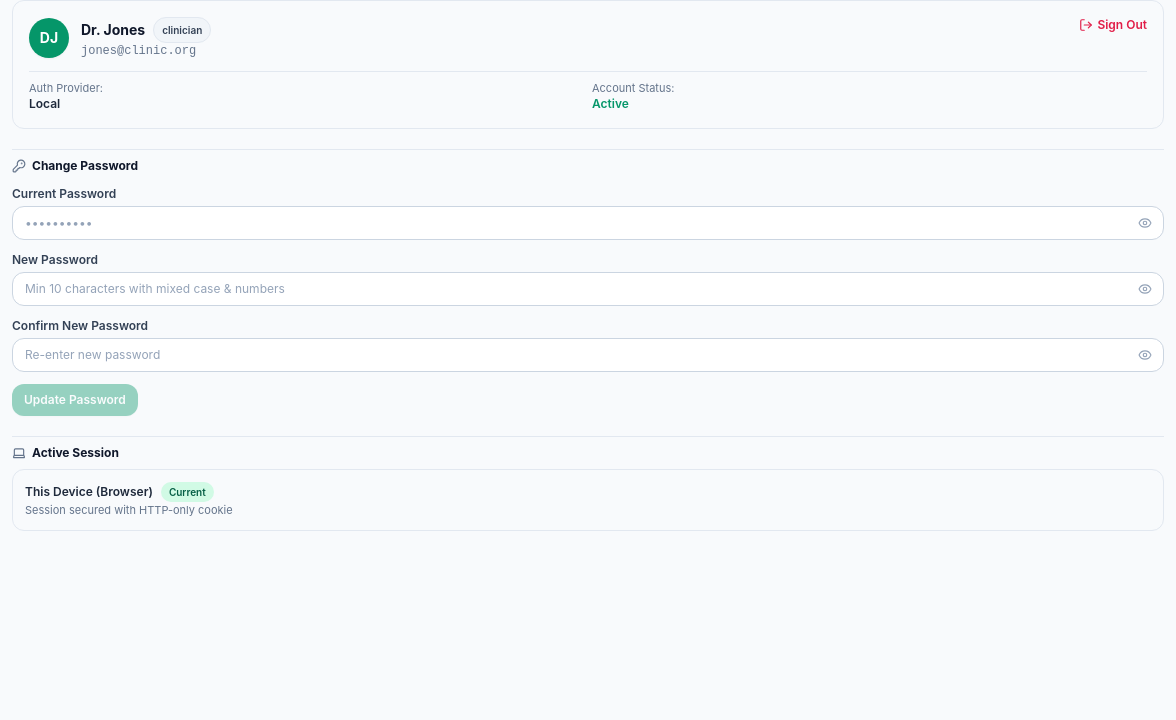
it: SecurityProfilePanel › renders change password form and allows updating password for local auth user
Expected: the text "Dr. Jones" is shown, [81,20,145,40]
Expected: the text with test id "user-role-badge" reads "clinician", [162,24,202,36]
In the password field with test id "current-password-input": (588, 223) [12,206,1164,240], type "OldPass123!"
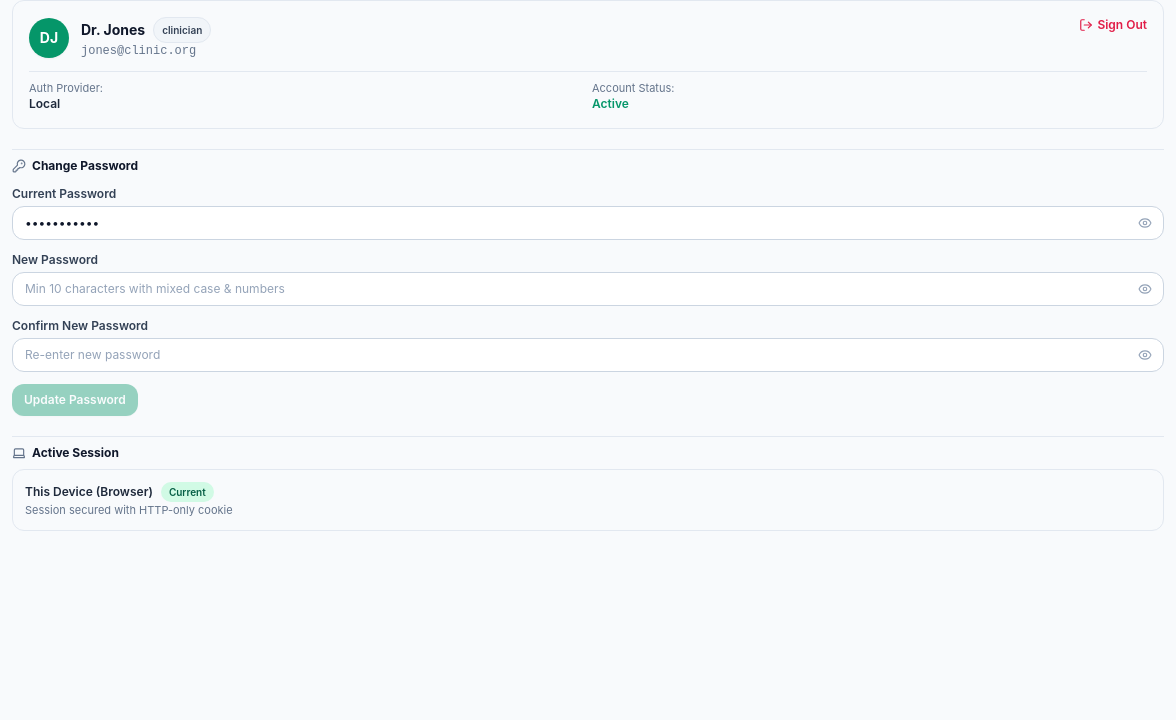
In the password field with test id "new-password-input": (588, 289) [12,272,1164,306], type "NewSuperPass456!"
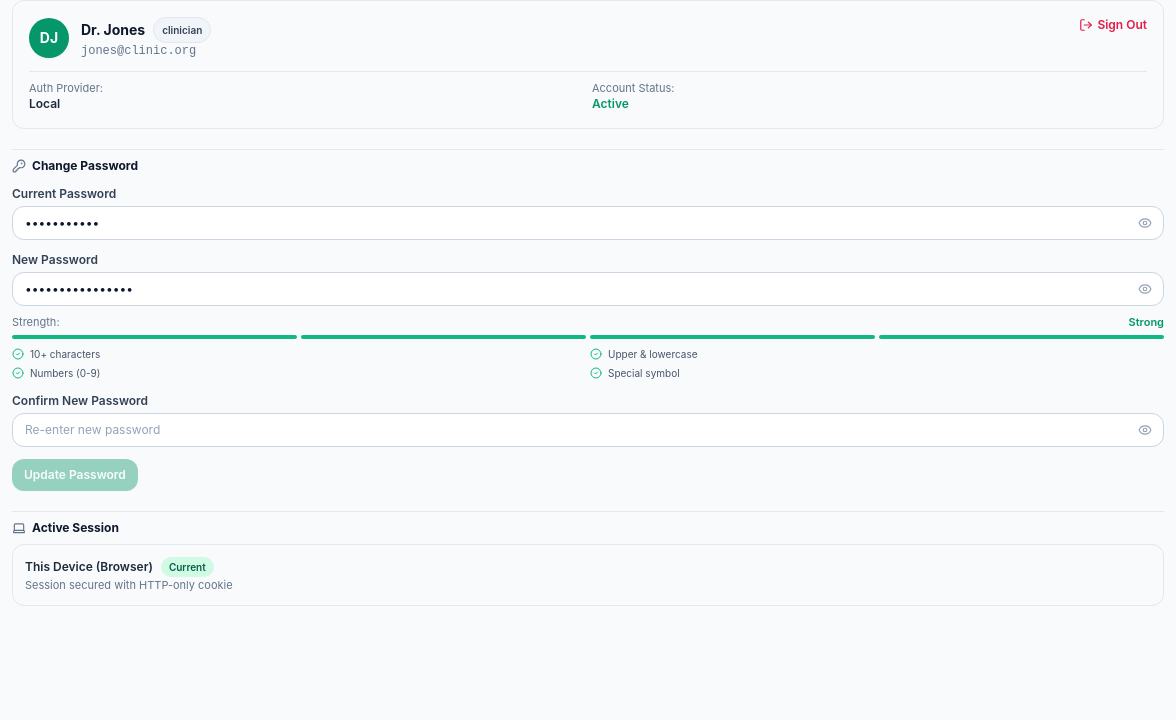
In the password field with test id "confirm-password-input": (588, 430) [12,412,1164,446], type "NewSuperPass456!"
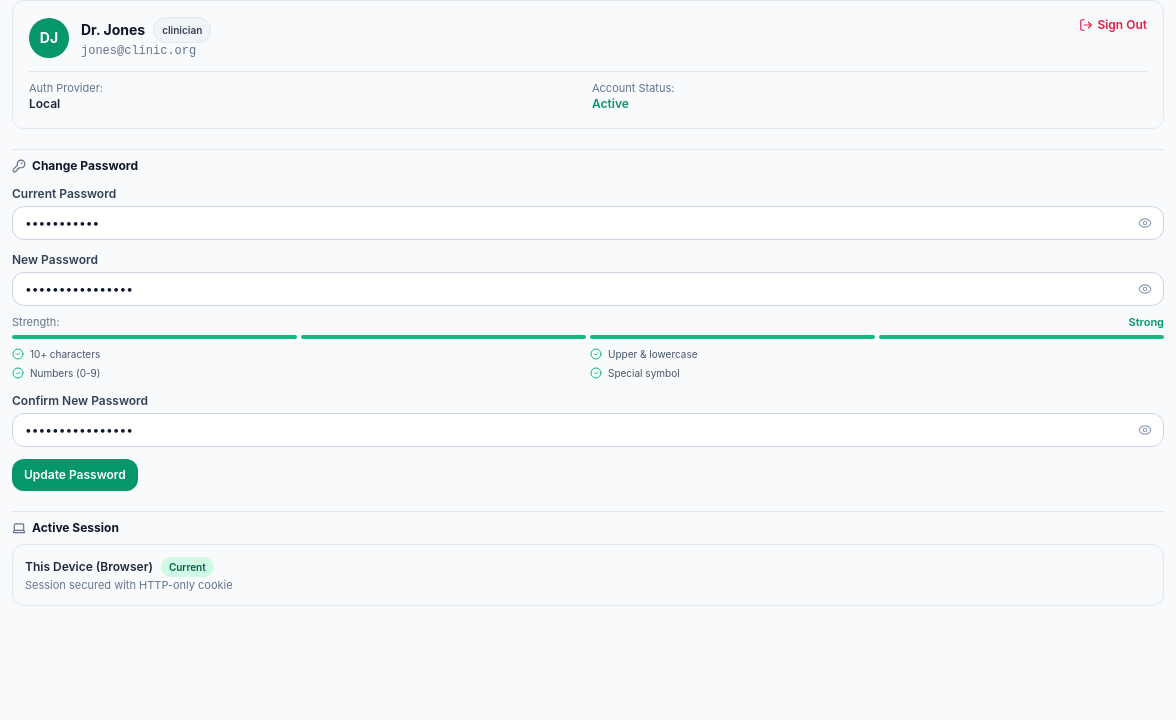
Result: the button with test id "update-password-submit-btn" is enabled
Click the button with test id "update-password-submit-btn": (75, 474) [12,458,138,490]
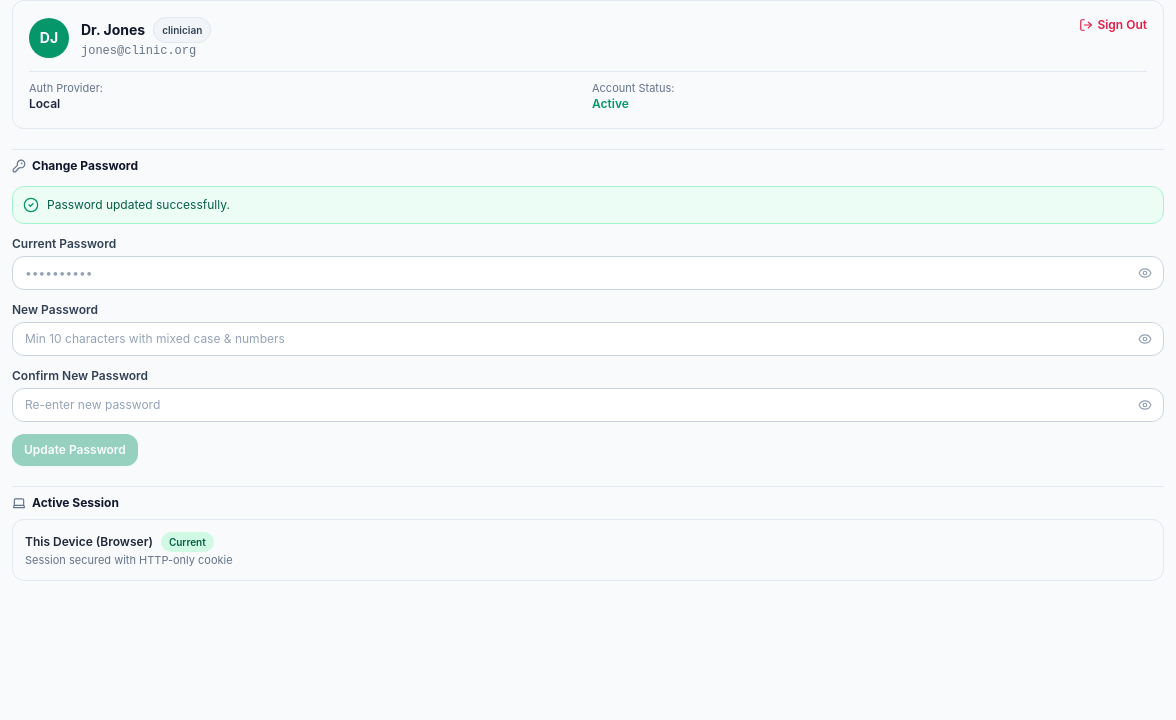
Result: the text "Password updated successfully." is shown at [47,197,230,213]
